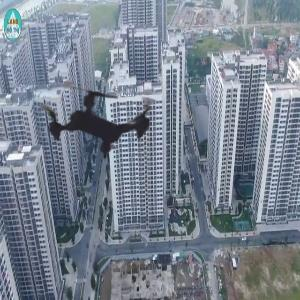drone: (7, 35, 184, 212)
